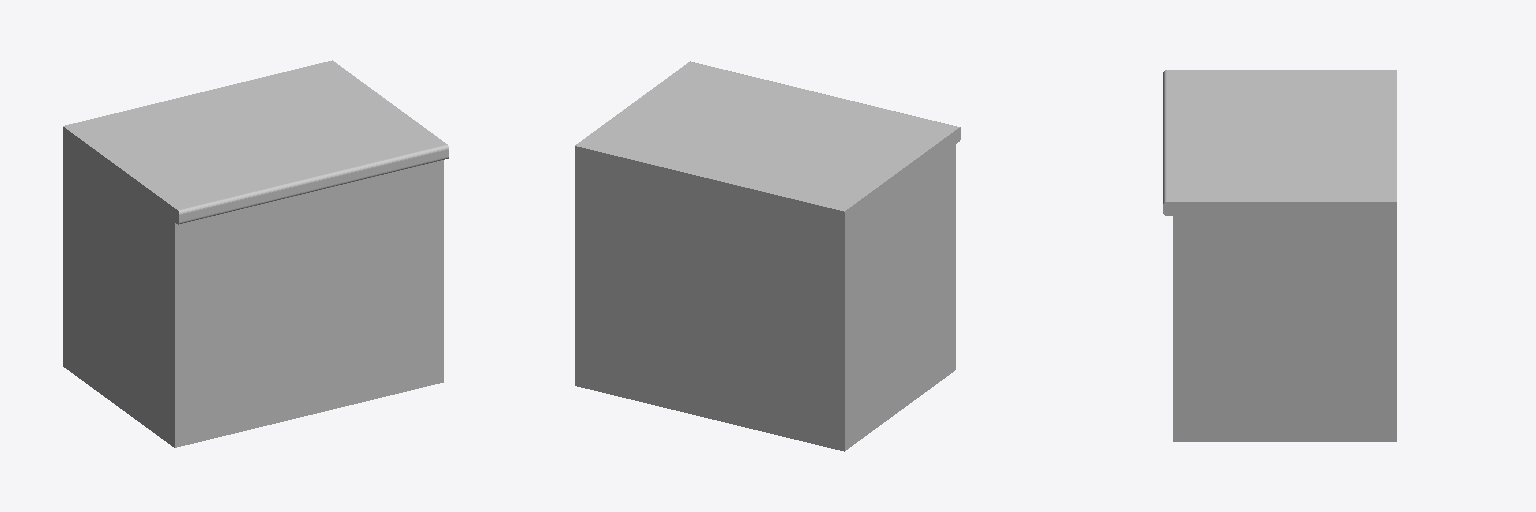
Rendered from housesp_076.obj.
3 views of the same model, side by side, from view 1: azimuth 30°, elevation 25°; view 2: azimuth 150°, elevation 25°; view 3: azimuth 270°, elevation 25° (orthographic).
Size of the model in its own units: 80 by 68 by 59.99.